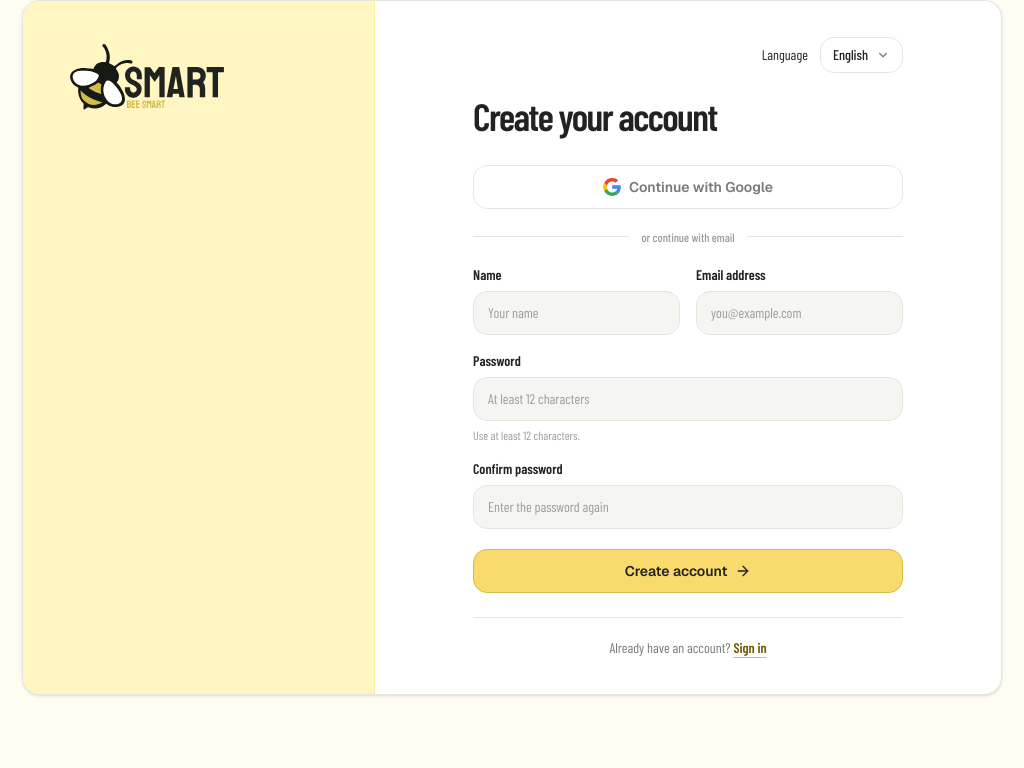
Test: authentication pages › registers normalized credentials and asks the user to verify their email
This screenshot has width=1024, height=768.
In the field labelled "Name": [576, 312] box left=473, top=290, right=680, bottom=334, type "  Test Teacher  "
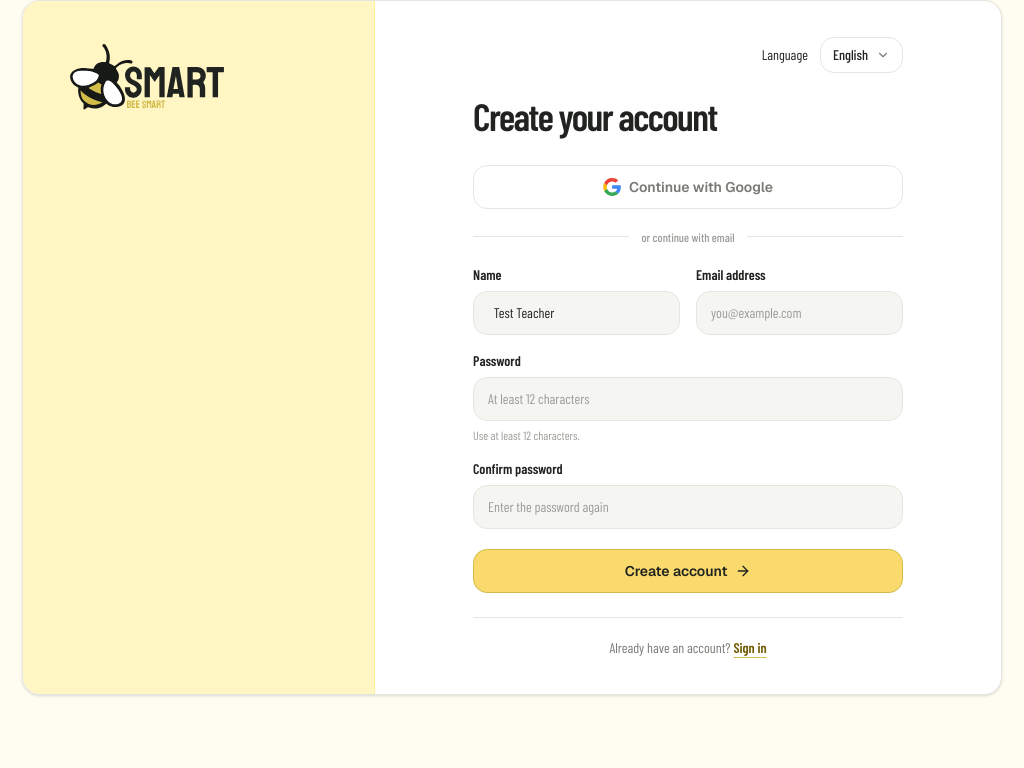
In the field labelled "Email address": [800, 312] box left=696, top=290, right=903, bottom=334, type "  TEACHER@EXAMPLE.COM  "
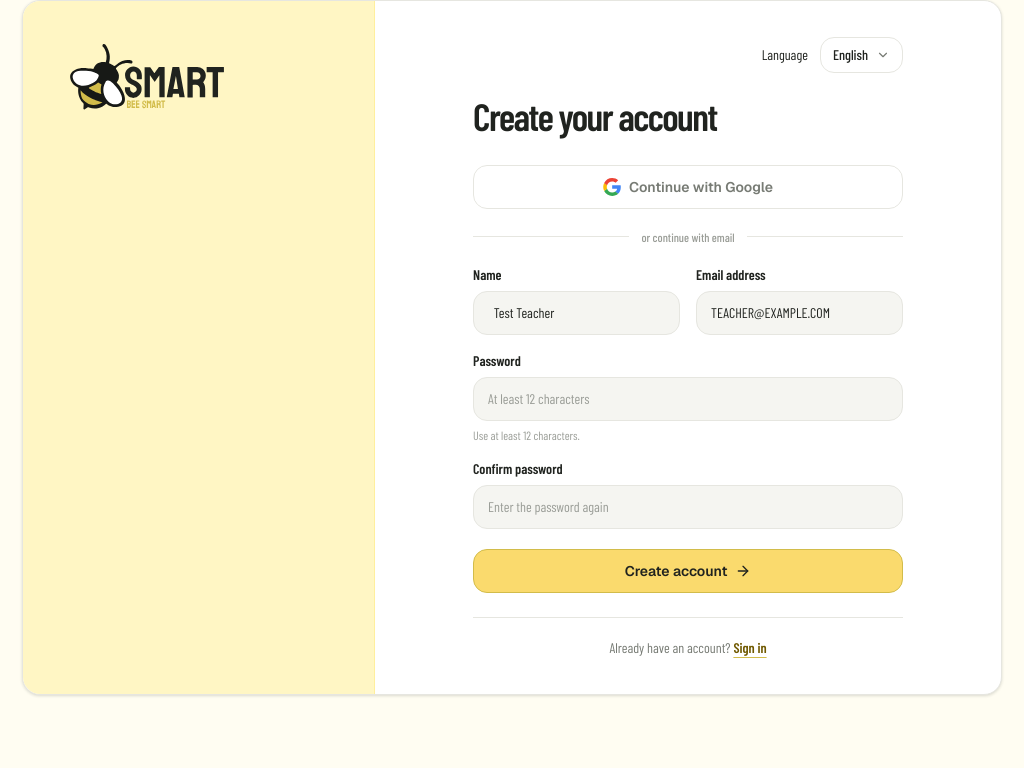
In the password field labelled "Password": [688, 398] box left=473, top=376, right=903, bottom=420, type "long-enough-password"
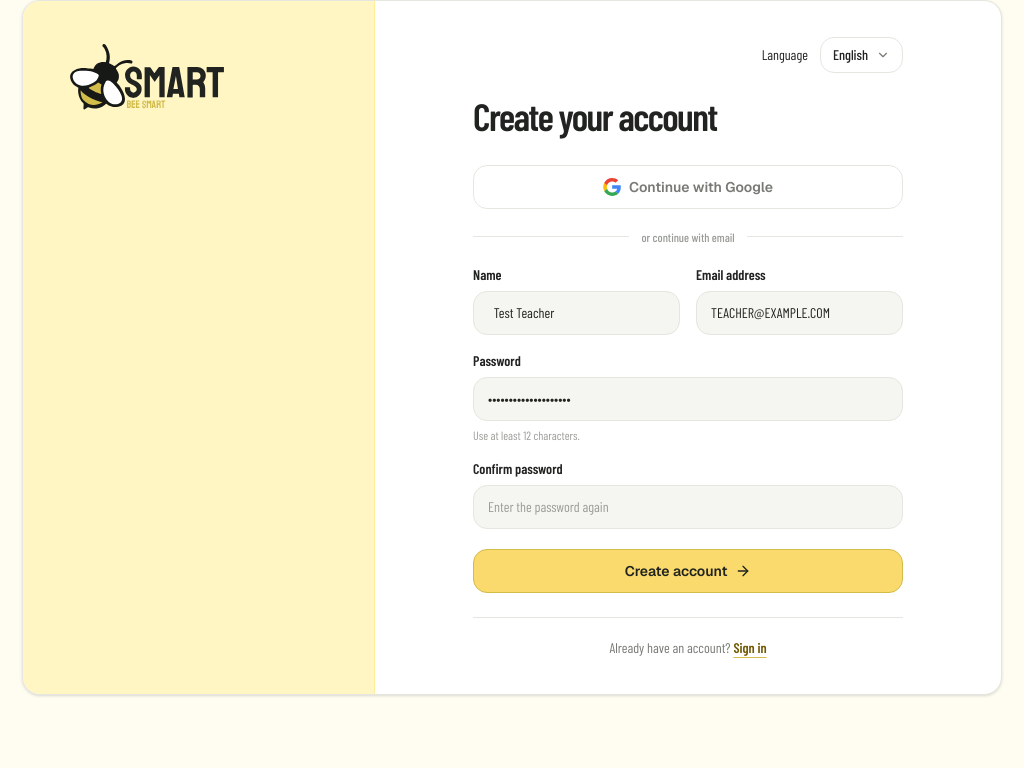
In the password field labelled "Confirm password": [688, 506] box left=473, top=484, right=903, bottom=528, type "long-enough-password"
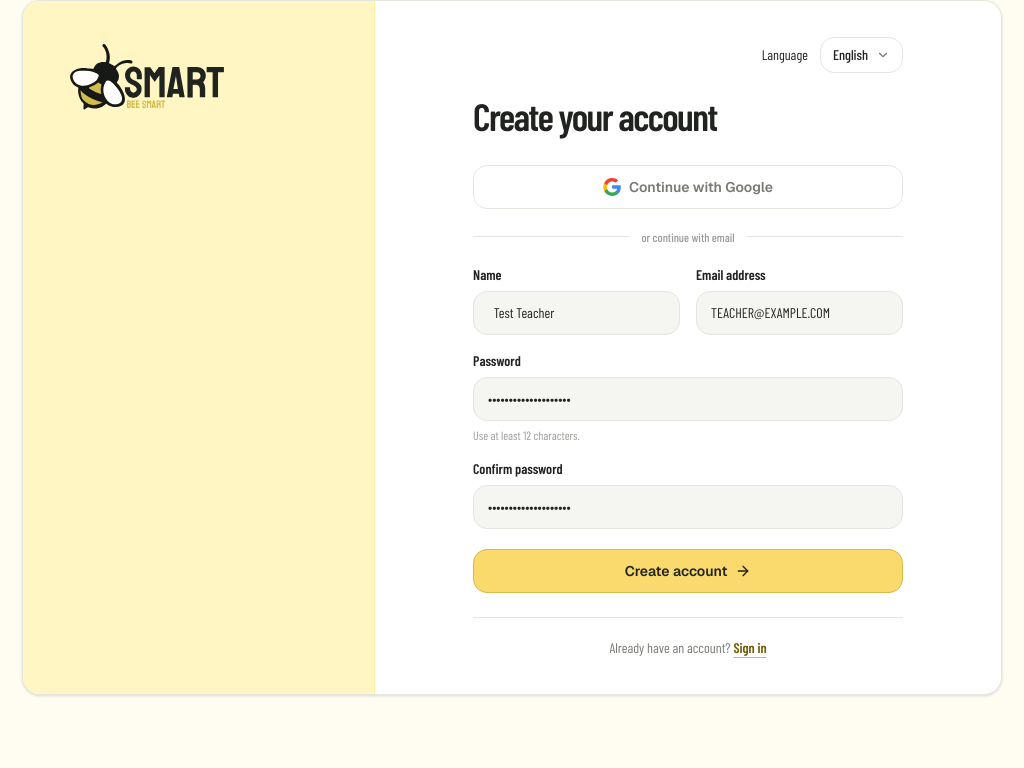
Click the button "Create account": [688, 570] box left=473, top=548, right=903, bottom=592
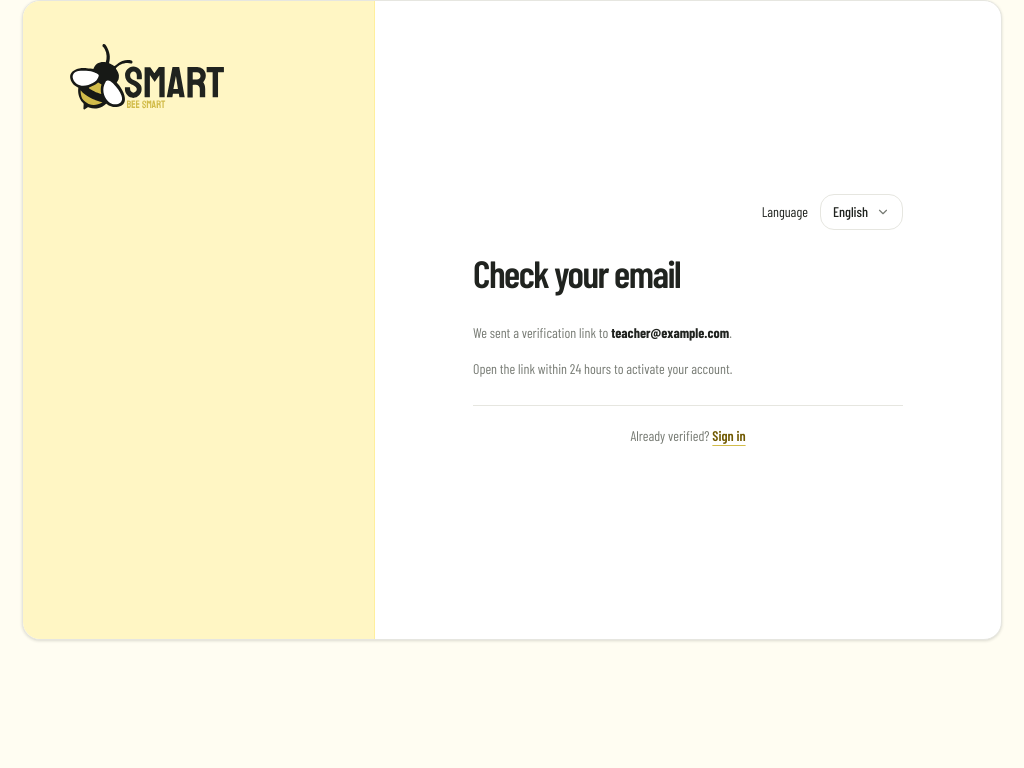
Now the message shows "teacher@example.com", box left=611, top=324, right=729, bottom=341
